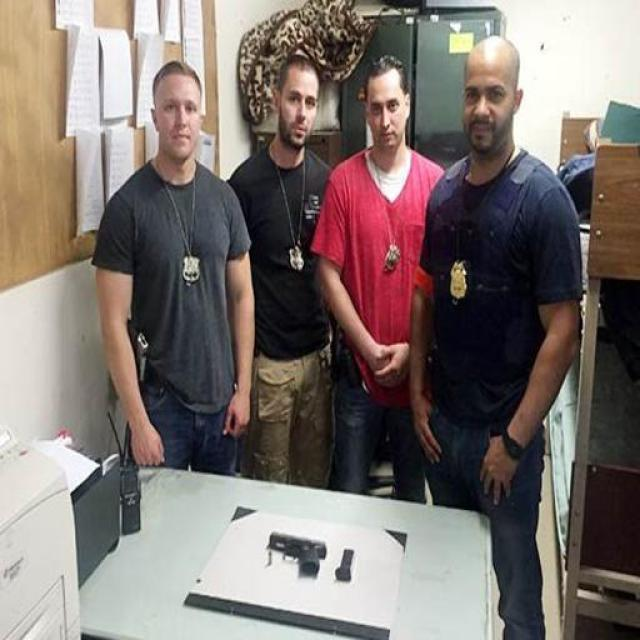pistol: (260, 525, 329, 586)
